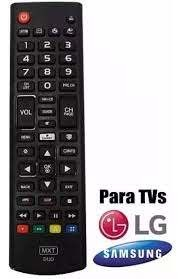remote control: (10, 3, 88, 279)
